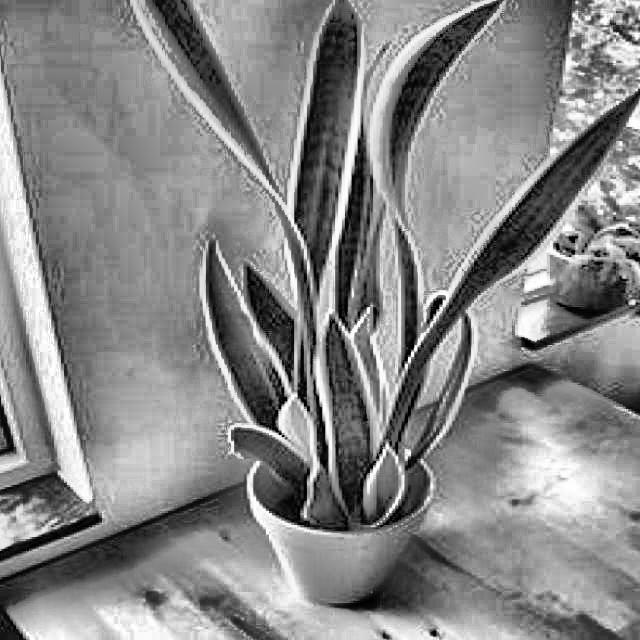plants: (122, 23, 506, 504)
